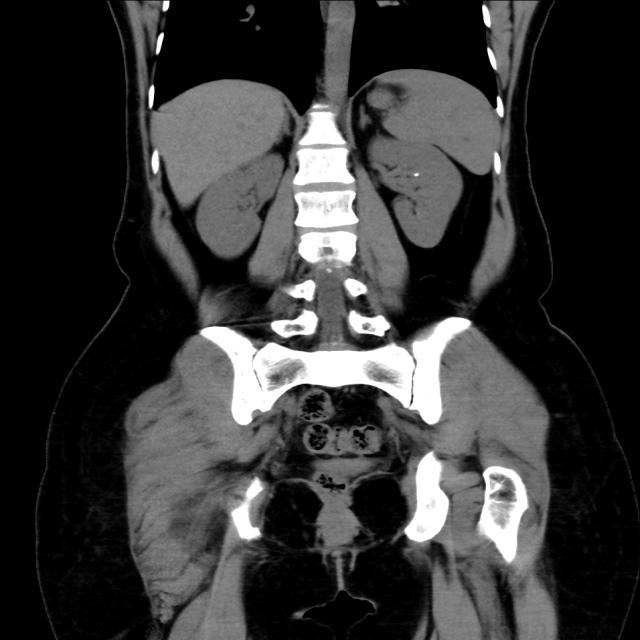kidneystone: (413, 172, 419, 176)
